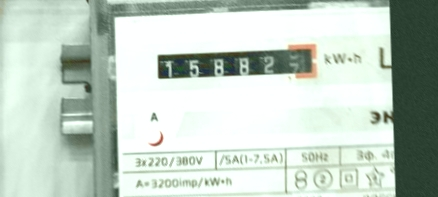1: (162, 58, 171, 76)
2: (260, 53, 273, 73)
5: (183, 57, 198, 77)
7: (285, 59, 297, 71)
8: (234, 54, 248, 75), (210, 55, 223, 76)
screen: (149, 40, 319, 86)
